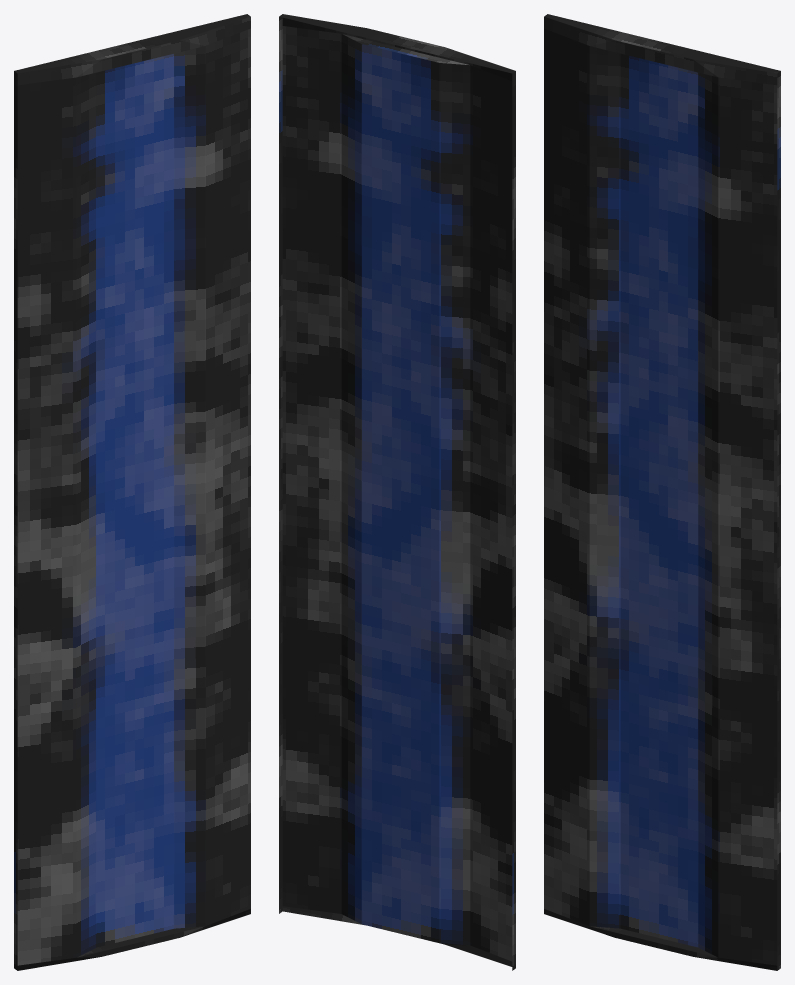
The model's file is F7EvevatorRailing.glb.
3 renders of one model, left to right at view 1: azimuth 30°, elevation 25°; view 2: azimuth 150°, elevation 25°; view 3: azimuth 330°, elevation 25°, orthographic.
Parts seen in each view (by area): view 1: Railing; view 2: Railing; view 3: Railing.
Boxes of the visible parts, x1,y1,x2,y2 form: Railing: (14, 14, 250, 970); Railing: (279, 14, 515, 970); Railing: (544, 14, 780, 970).
Size of the model in its own units: 1.06 by 3.91 by 0.0802.
1 material, 1 textured.
